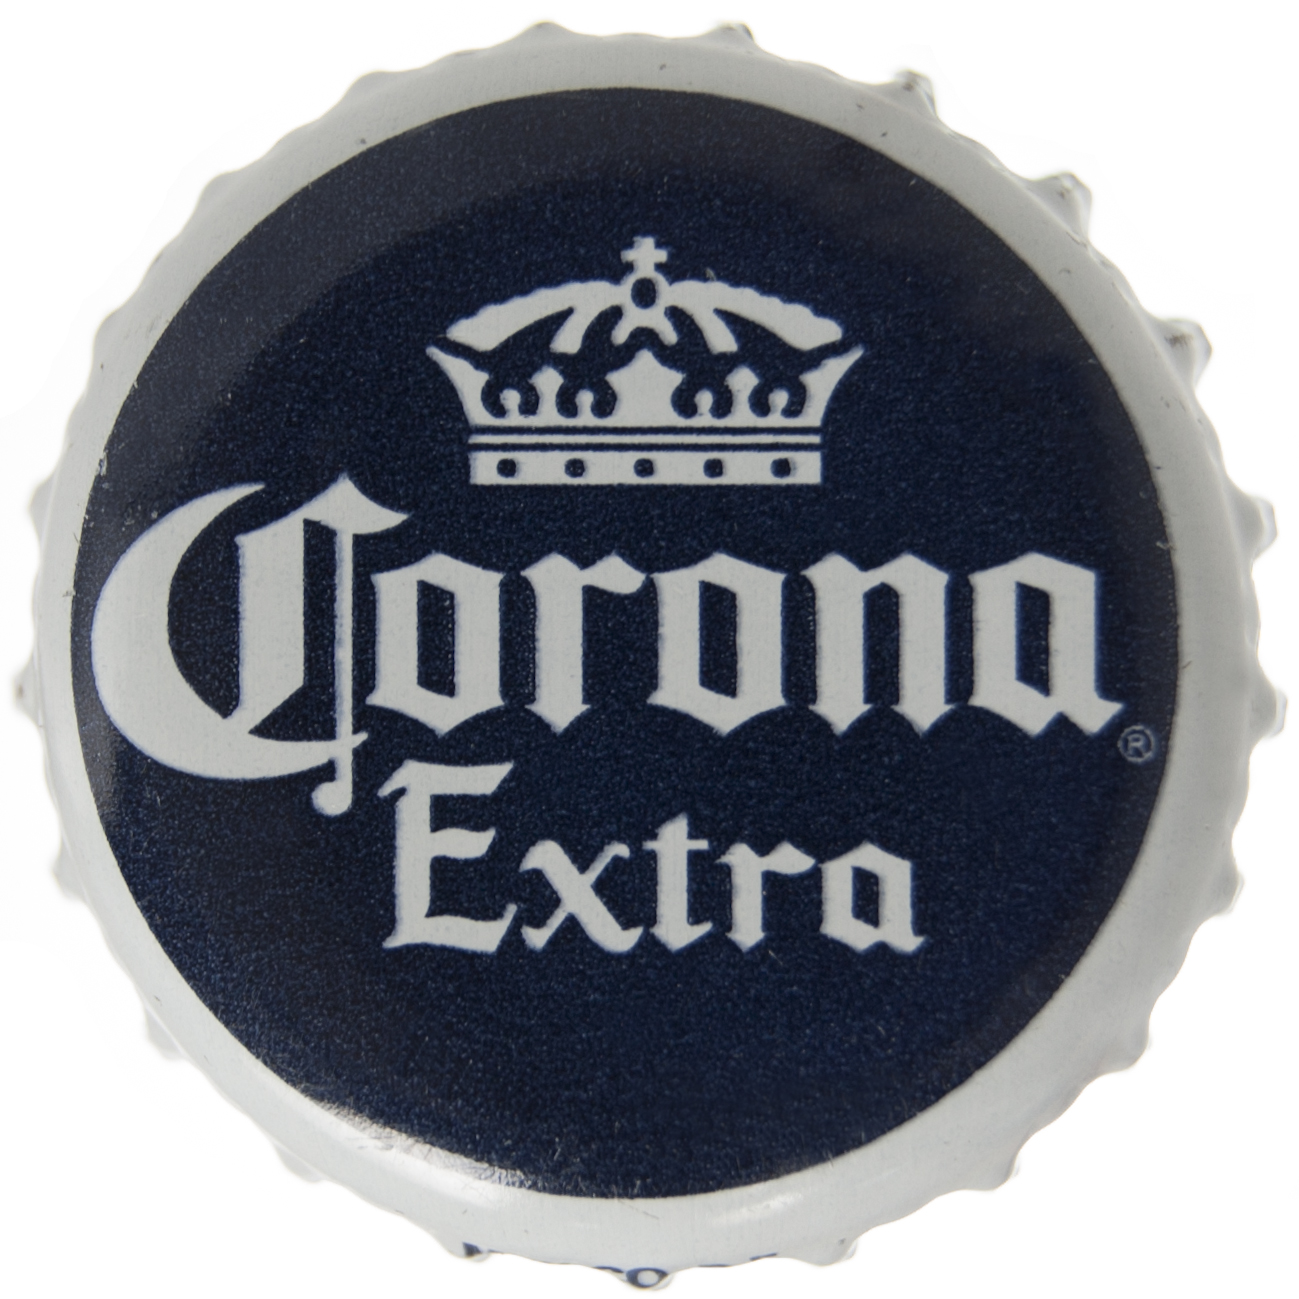corona: (17, 19, 1289, 1292)
